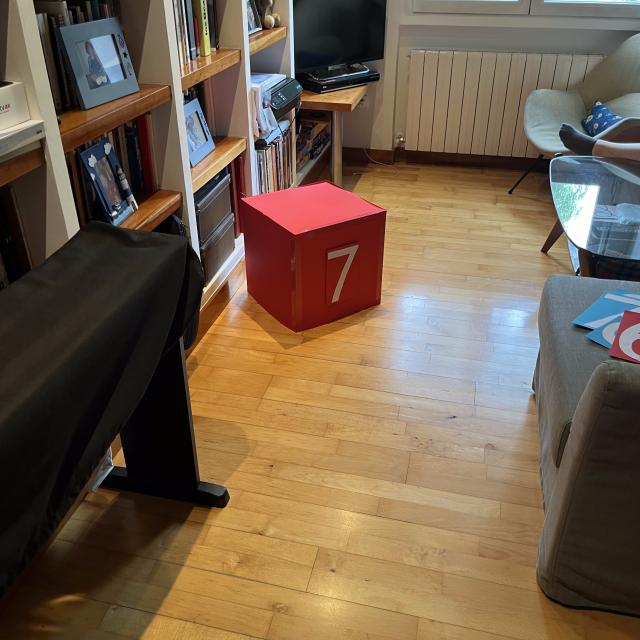box: (234, 177, 390, 334)
